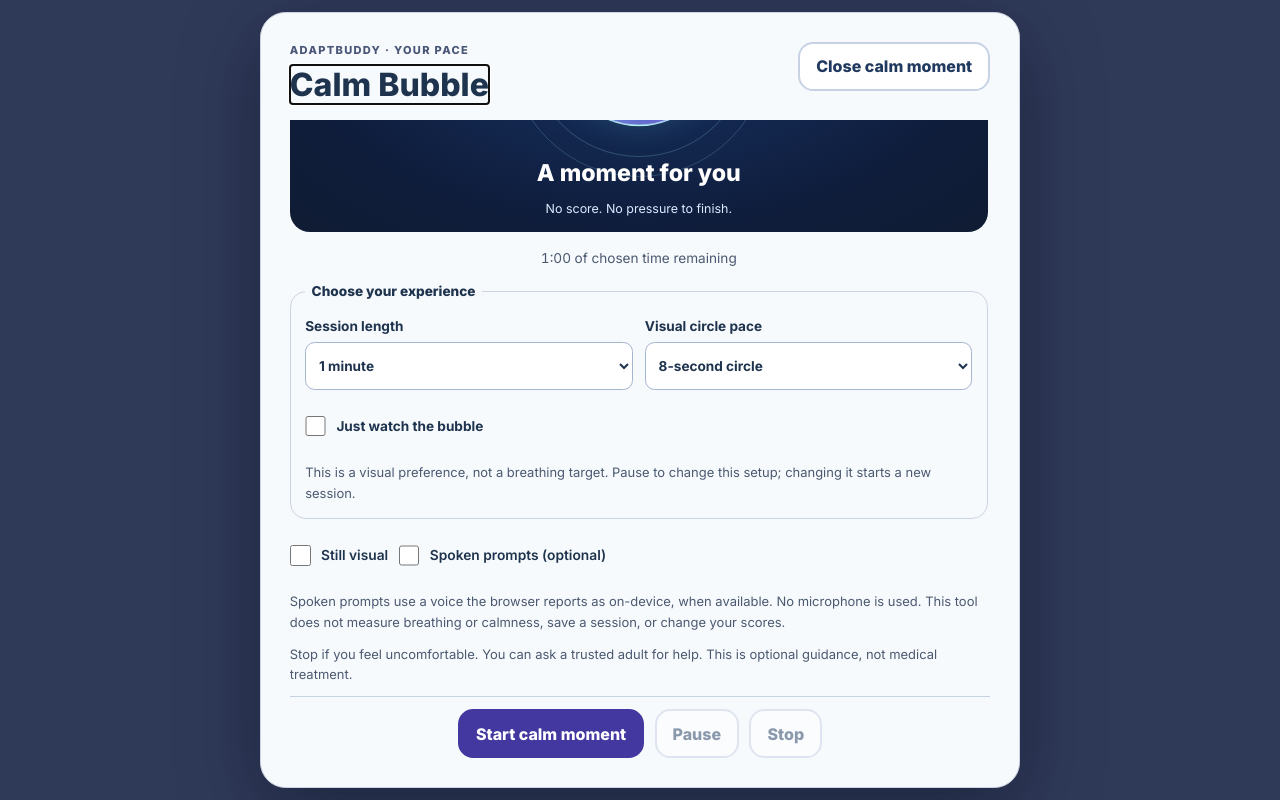
Scenario: a missing local voice disables only audio and preserves the visible experience
(page scrolled)
Click the checkbox labelled "Spoken prompts (optional)".
click(409, 556)  # box left=399, top=545, right=419, bottom=566
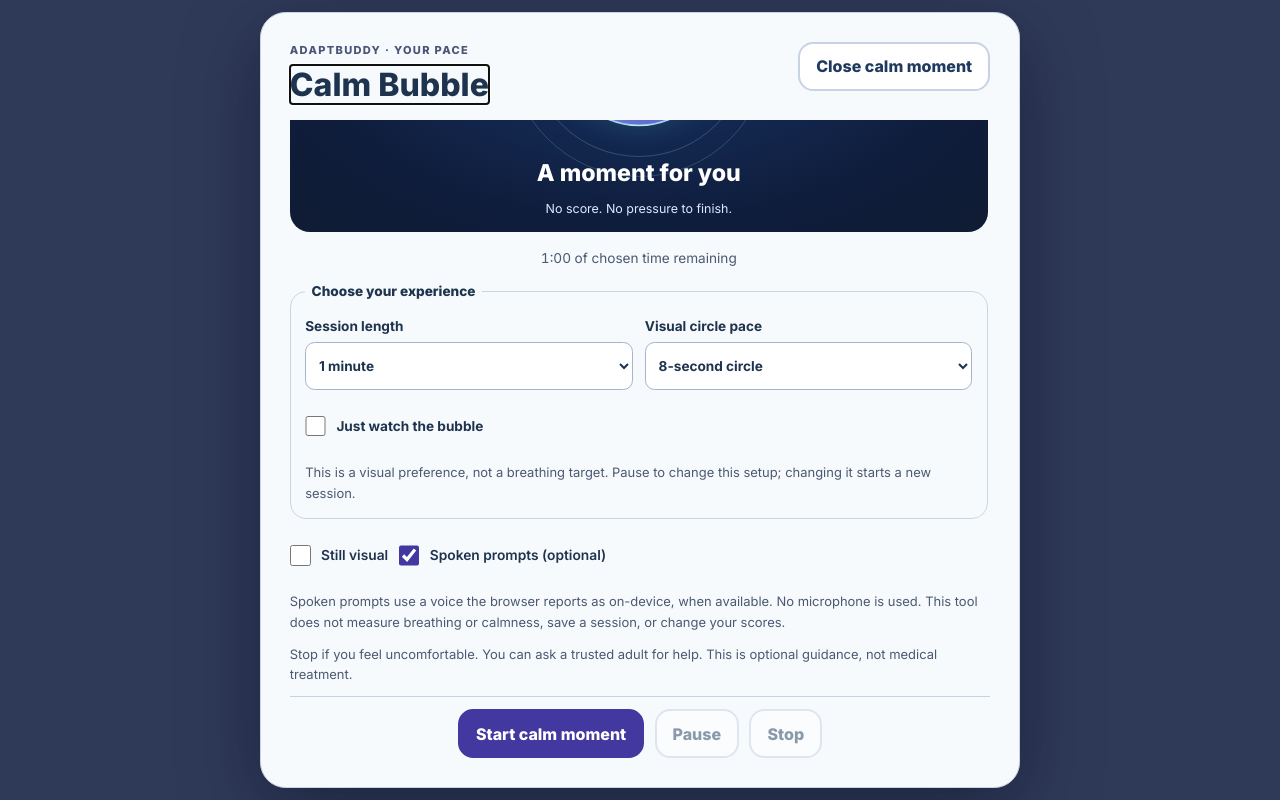
Click the button "Start calm moment".
click(551, 734)  # box left=458, top=709, right=644, bottom=758
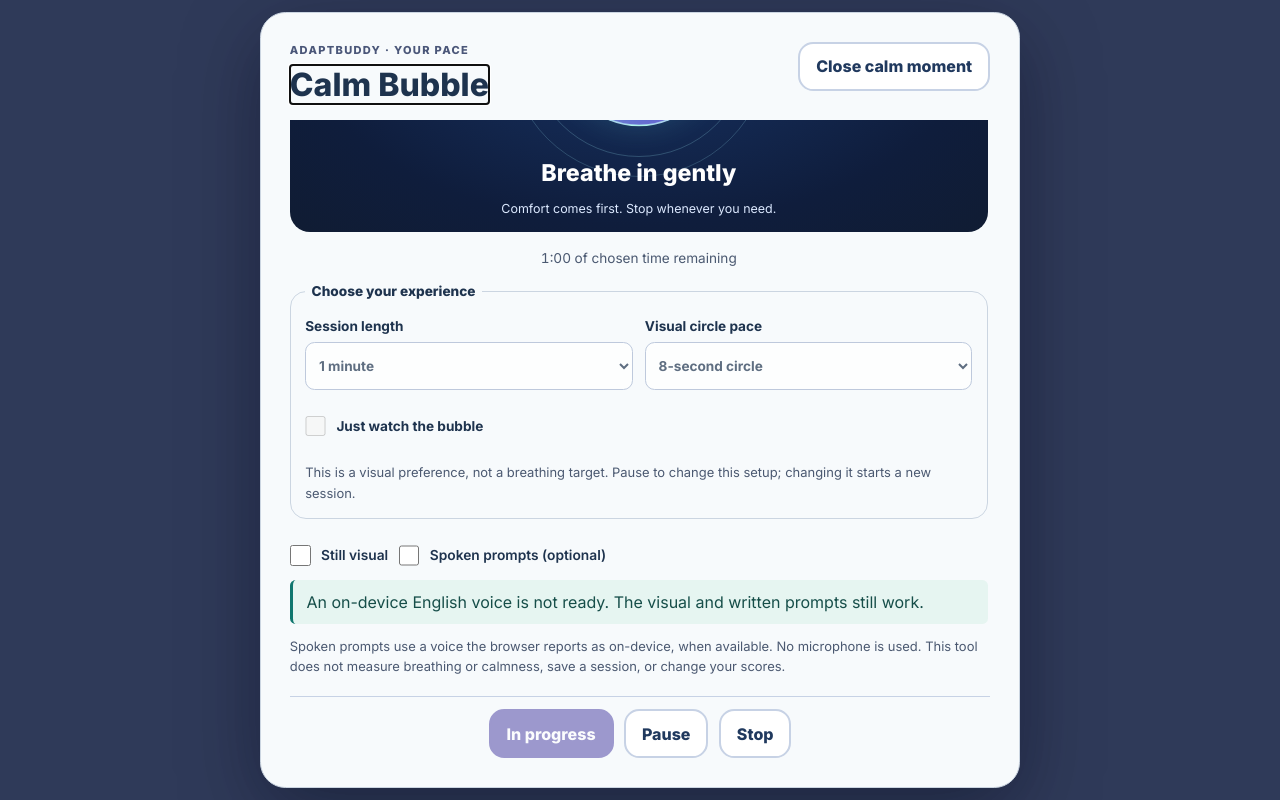
Expected: the checkbox labelled "Spoken prompts (optional)" is not checked, left=399, top=545, right=419, bottom=566
Expected: the text "An on-device English voice is not ready" is shown, left=306, top=592, right=924, bottom=612
Expected: the button "Pause" is enabled, left=624, top=709, right=708, bottom=758
